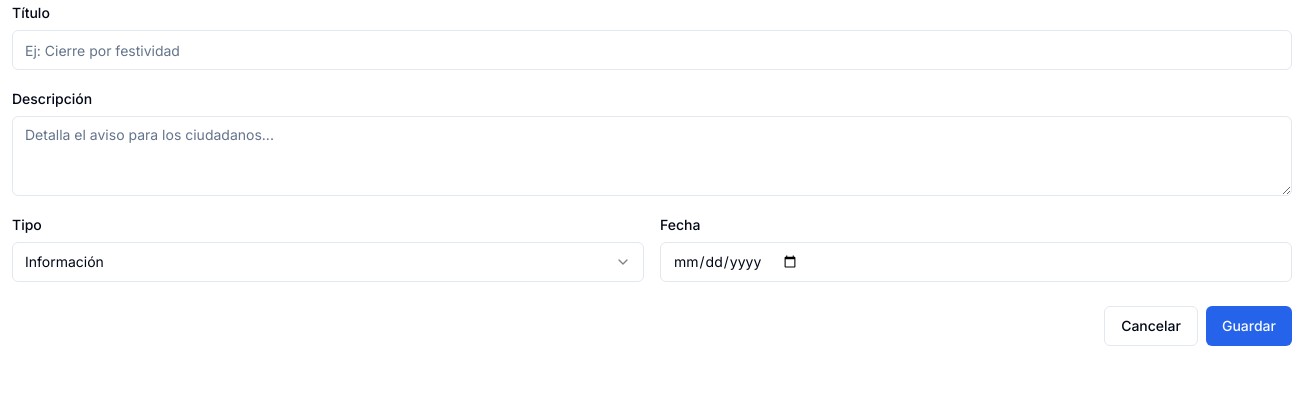
it: FormularioAviso › debería mostrar error si se envía sin descripción
Note: Rellenar título pero dejar descripción vacía
In the field labelled "Título": {"x": 652, "y": 50} x1=12 y1=30 x2=1292 y2=70, type "Título de prueba"
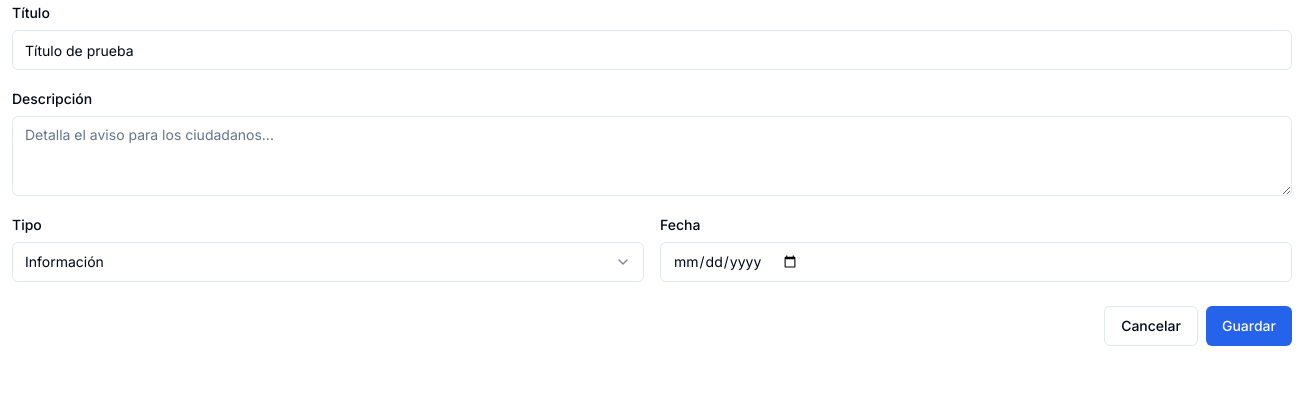
Click the button "Guardar": {"x": 1249, "y": 326} x1=1206 y1=306 x2=1292 y2=346
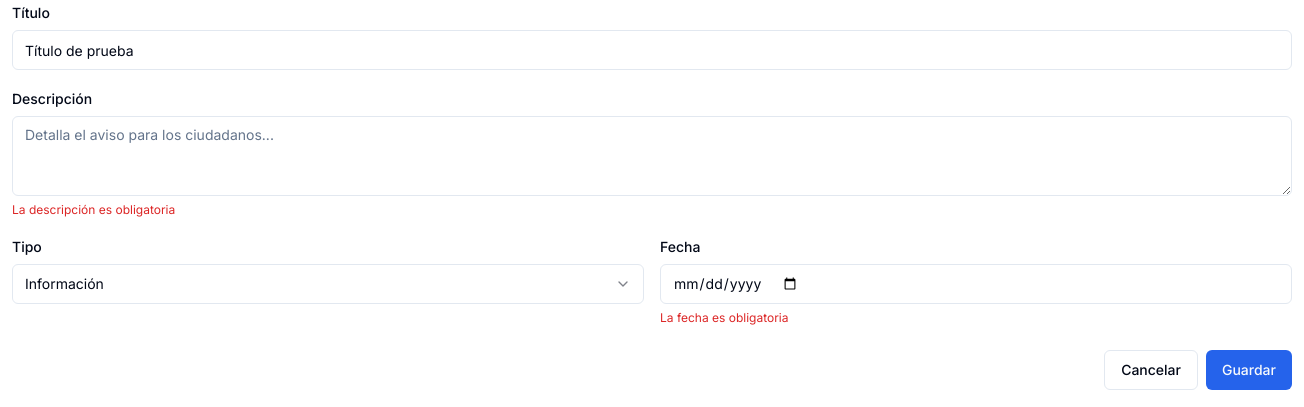
Expected: the text "La descripción es obligatoria" is shown, x1=12 y1=202 x2=175 y2=217
